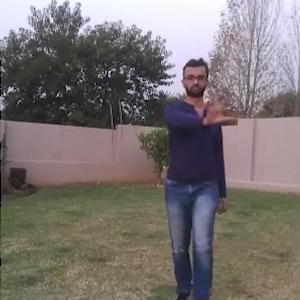follow_hand: (200, 90, 238, 125)
